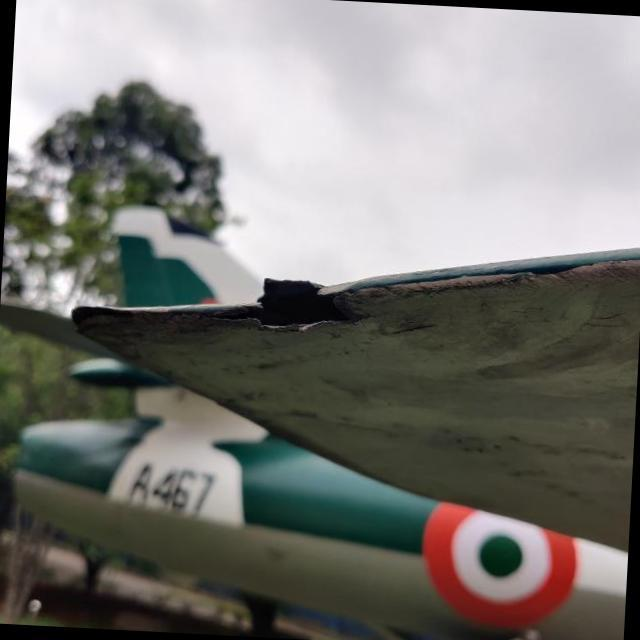Rupture: (233, 262, 387, 349)
